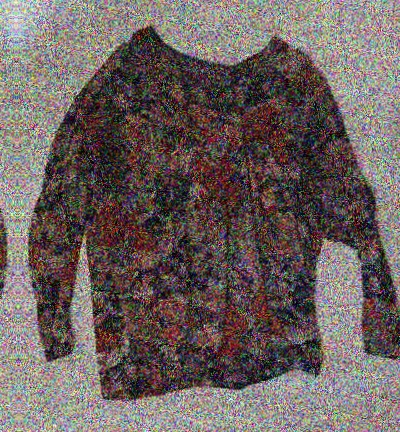Blouse: (23, 19, 400, 410), (0, 22, 11, 413)
